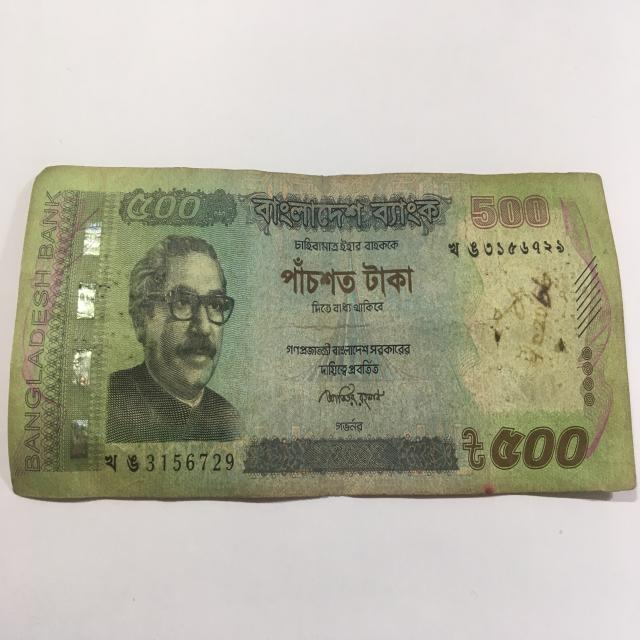Taka: (10, 147, 636, 507)
